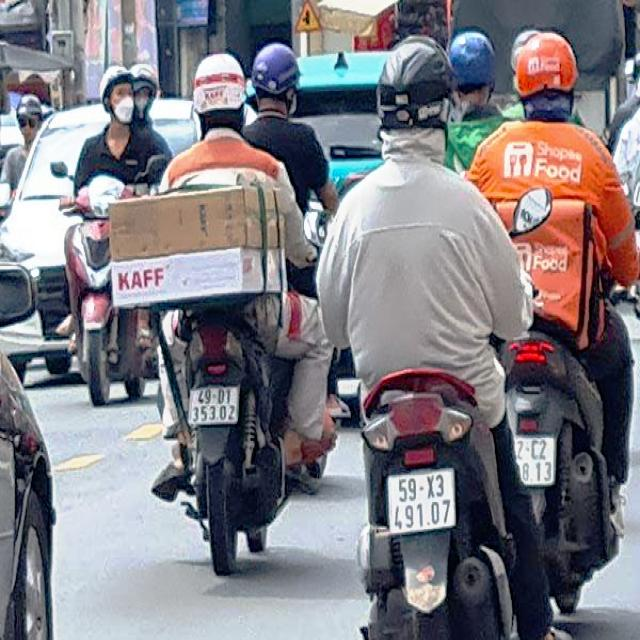license_plate: (389, 467, 458, 533), (189, 385, 241, 424)
